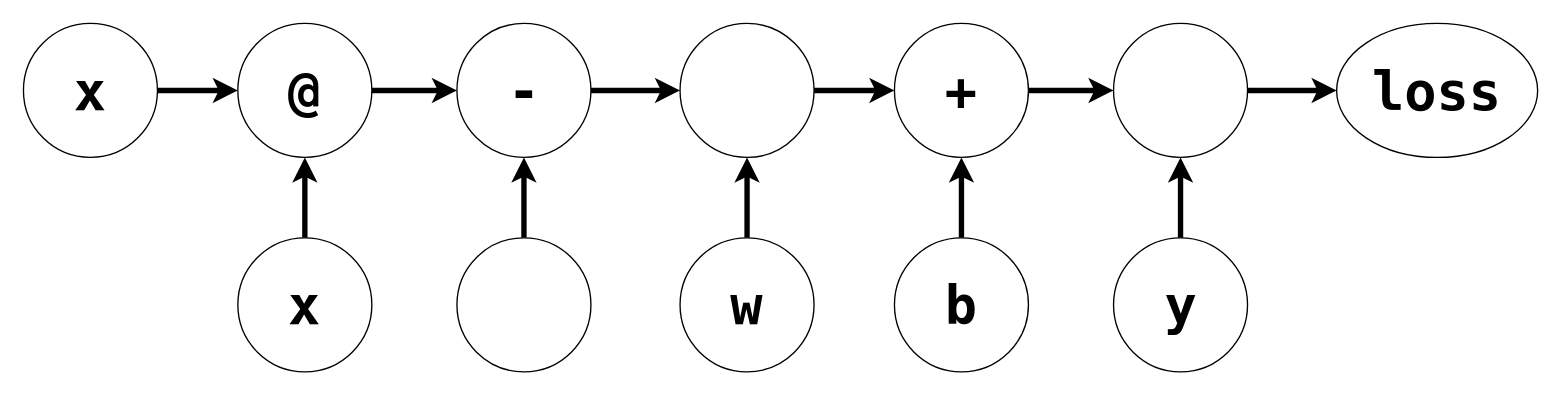
This 1561x395 diagram has some shape labels left out. Here are the shapes that lost their labels. From the top down, the box of each, then its label:
(679, 22, 814, 157): div
(1112, 22, 1248, 157): CE
(456, 237, 591, 372): 4a
